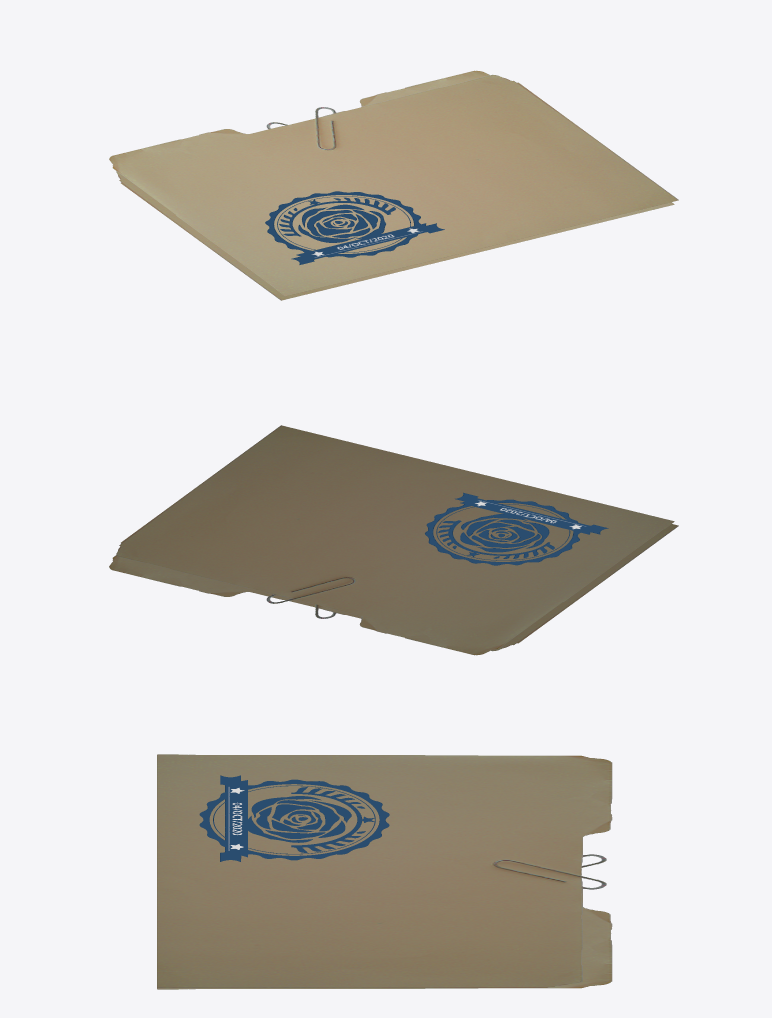
Rendered from seal2.obj.
3 views of the same model, one above another, from view 1: azimuth 30°, elevation 25°; view 2: azimuth 150°, elevation 25°; view 3: azimuth 270°, elevation 25° (orthographic). The views are drawn at different scales.
Visible parts, largest first — view 1: Plane01, Seal2, Duplicate00; view 2: Plane01, Seal2, Duplicate00; view 3: Plane01, Seal2, Duplicate00.
Boxes of the visible parts, bbox=[...] form: Plane01: bbox=[109, 74, 678, 296]; Seal2: bbox=[265, 191, 444, 264]; Duplicate00: bbox=[116, 70, 674, 300]; Plane01: bbox=[116, 425, 674, 655]; Seal2: bbox=[425, 492, 608, 565]; Duplicate00: bbox=[109, 524, 678, 651]; Plane01: bbox=[157, 754, 612, 987]; Seal2: bbox=[199, 775, 389, 861]; Duplicate00: bbox=[157, 854, 612, 989].
Size of the model in its own units: 5.05 by 0.0616 by 6.12.
